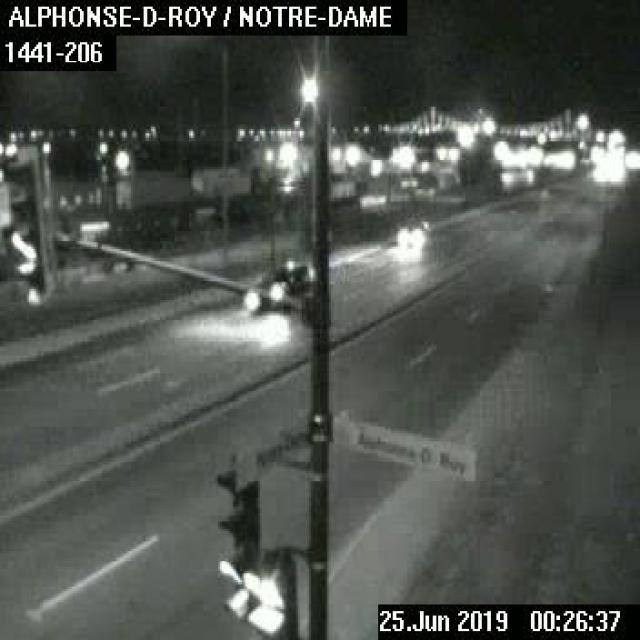vehicle: (244, 260, 307, 311), (393, 216, 429, 244)
